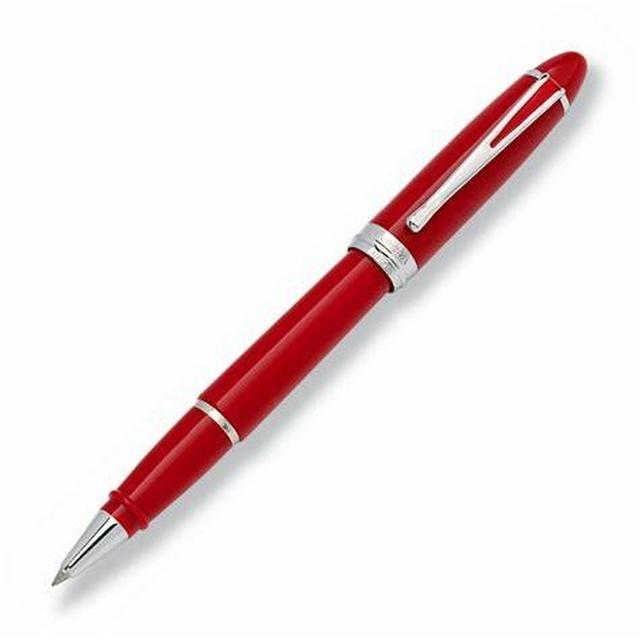pen: (44, 43, 614, 596)
